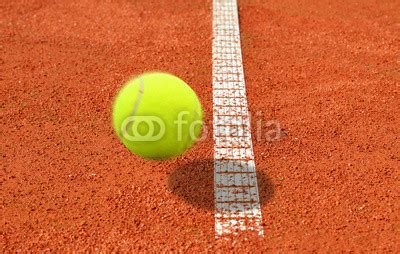tennis_ball: (110, 70, 204, 161)
